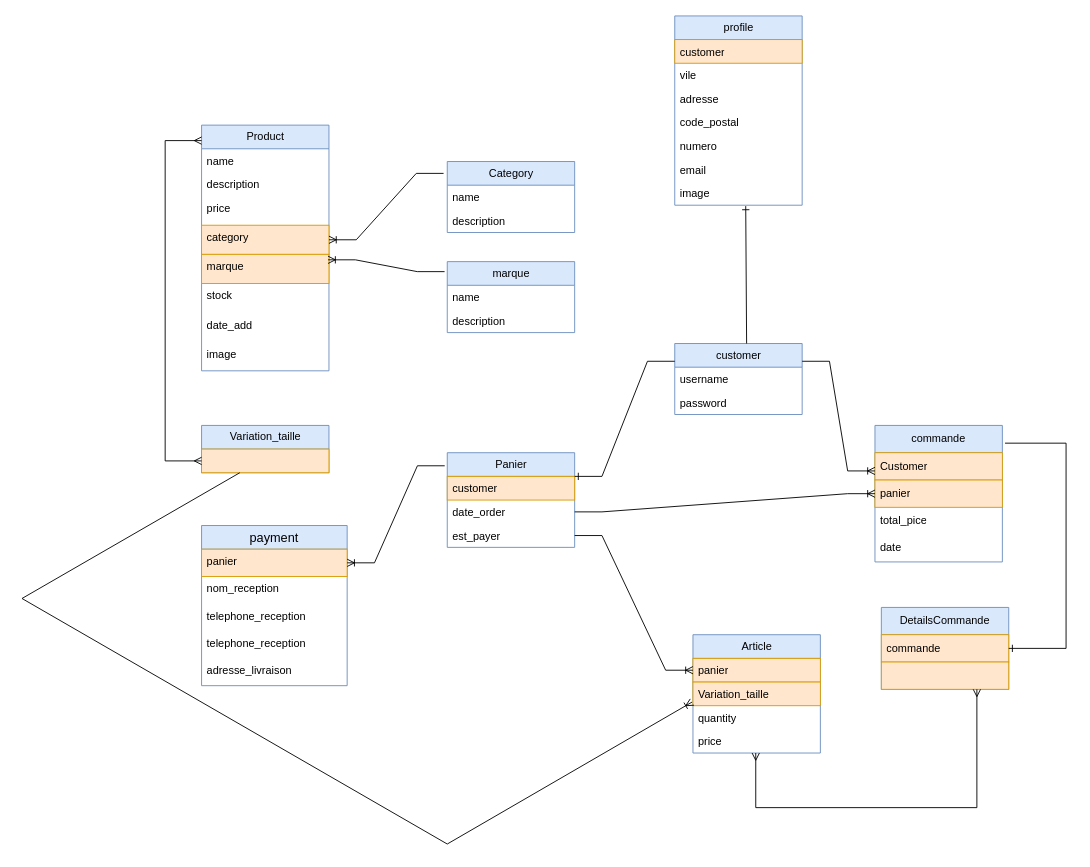
Some shapes in this 1090 by 867 pixel diagram are drawn without their labels. Each missing label, with the centre of its shape:
"articles" belongs at (944,675).
"size" belongs at (265,460).
